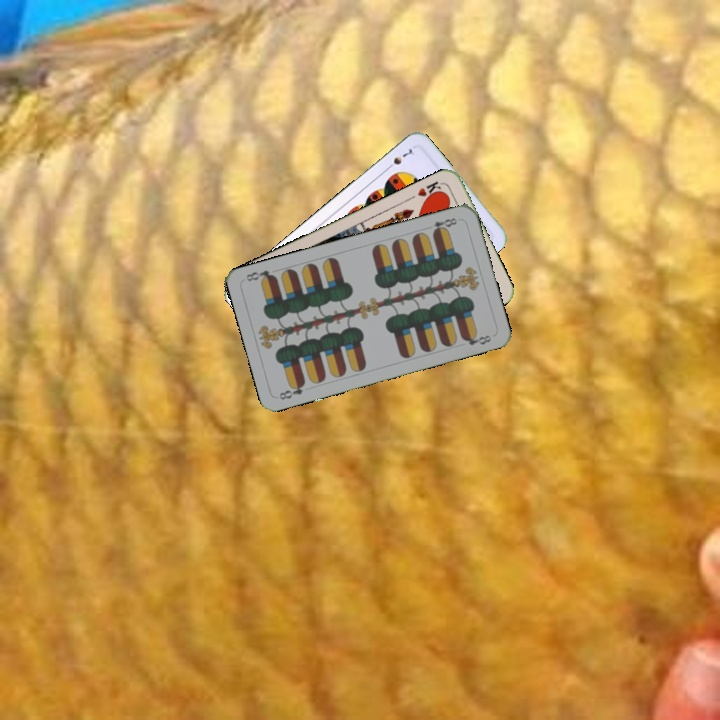E8: (422, 214, 460, 236), (275, 378, 308, 402)
HK: (414, 177, 446, 203)
S7: (382, 145, 417, 173)
